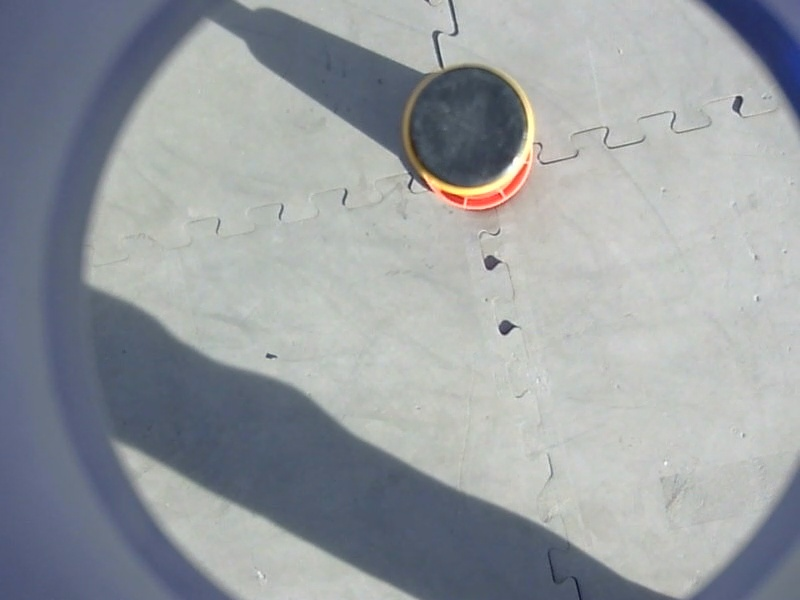tip: (397, 60, 541, 200)
